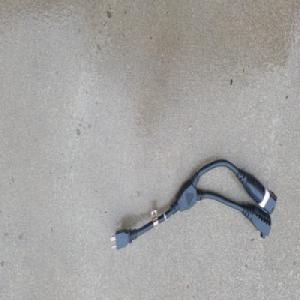Wire: (109, 156, 277, 251)
